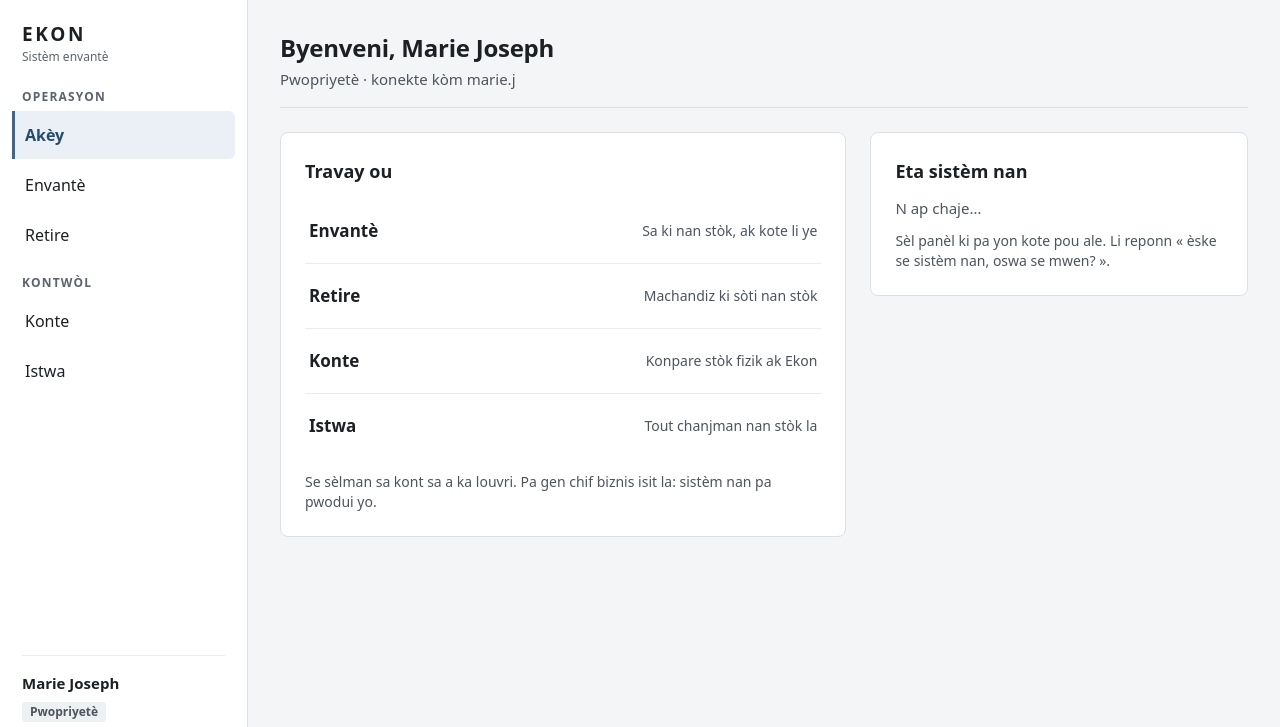
Test: choosing an item › says so when the whole shop has nothing to remove
The image size is (1280, 727).
Expected: the text "Marie Joseph" is shown, x1=22 y1=672 x2=119 y2=692
Step 1. Click the button "Retire" → (124, 234), box x1=12 y1=210 x2=235 y2=258
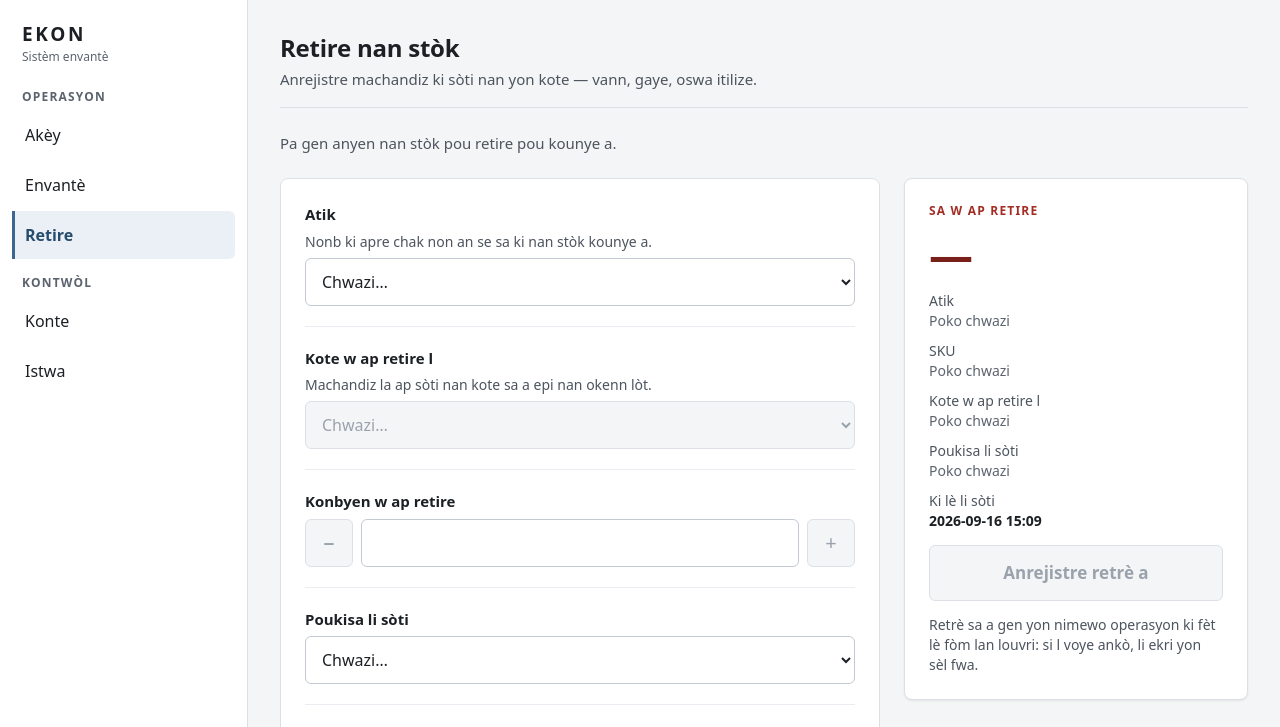
Expected: the heading "Retire nan stòk" is shown, x1=280 y1=31 x2=459 y2=64
Expected: the text "Pa gen anyen nan stòk pou retire pou kounye a." is shown, x1=280 y1=132 x2=617 y2=152
Expected: the message "N ap chaje…" is gone
